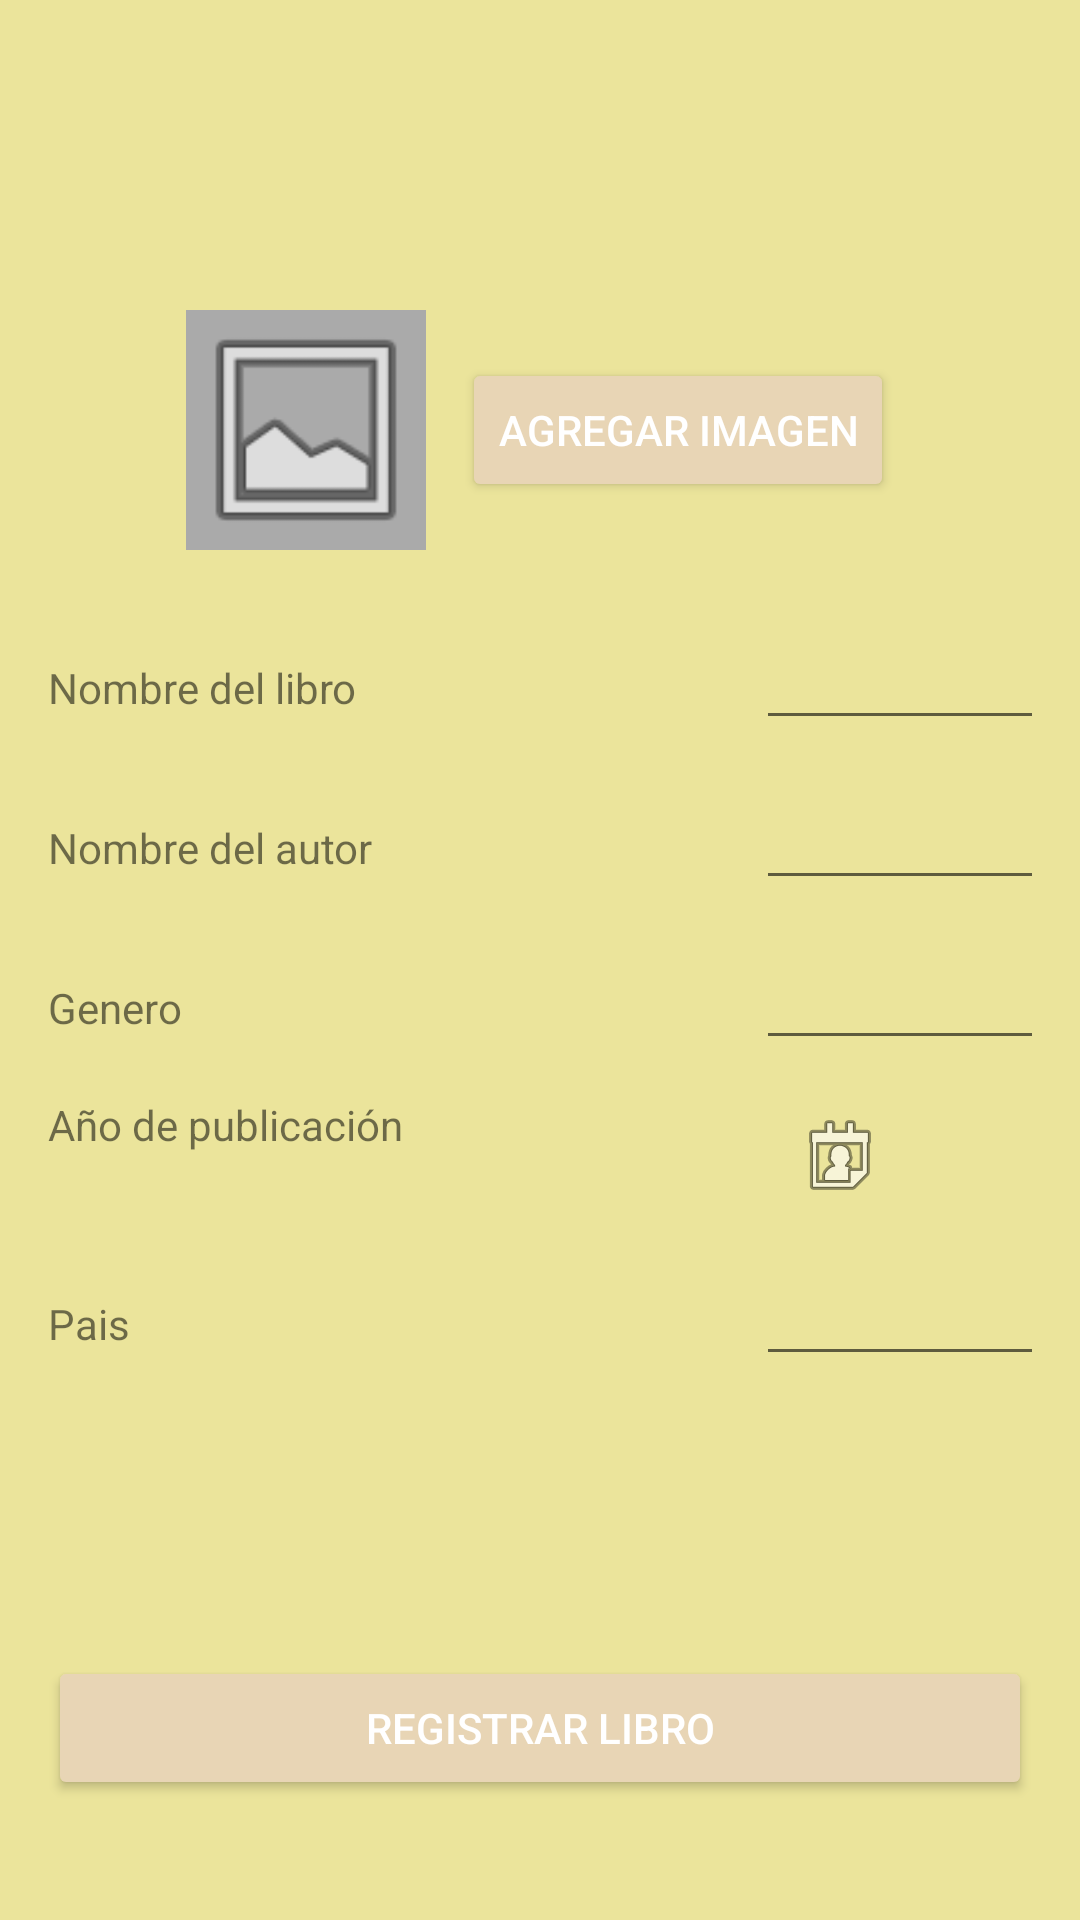

Named icons in this screenshot (1080*1920) and their bounding boxes, (x1, y1, x2, y2):
calendar: (809, 1120, 871, 1190)
gallery: (186, 310, 426, 550)
